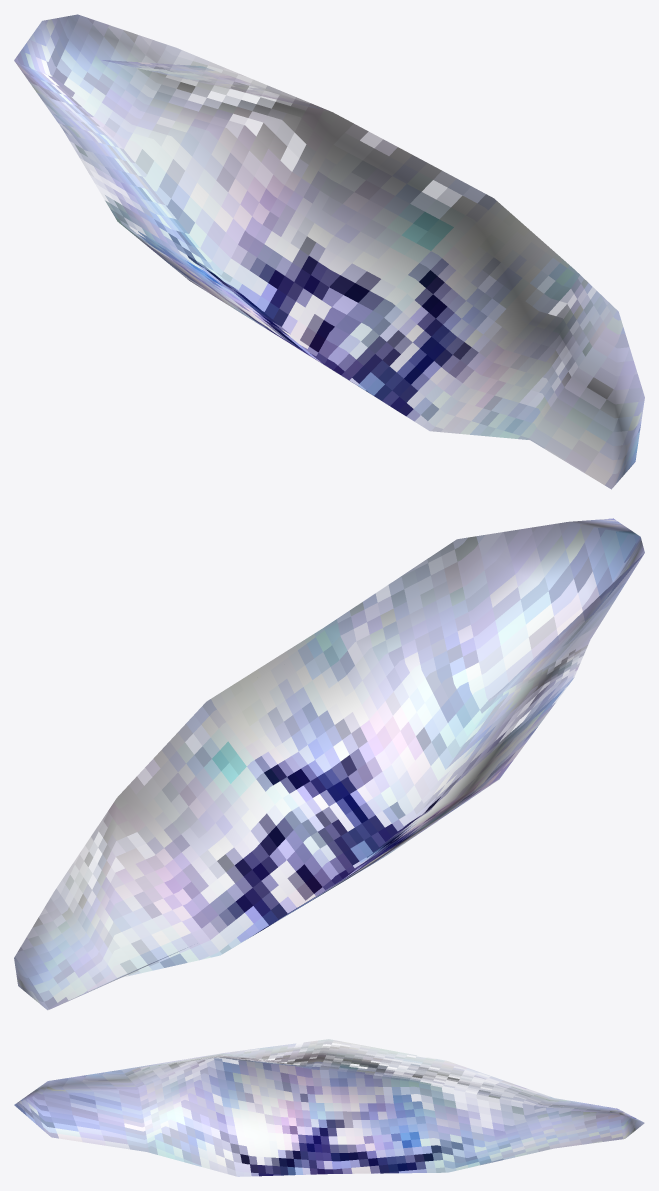
Rendered from condolstone.glb.
The picture shows the model from 3 angles, top to bottom: view 1: azimuth 30°, elevation 25°; view 2: azimuth 150°, elevation 25°; view 3: azimuth 270°, elevation 25°; orthographic projection. The views are drawn at different scales.
Visible parts, largest first — view 1: model_condolstone; view 2: model_condolstone; view 3: model_condolstone.
Boxes of the visible parts, bbox=[...] form: model_condolstone: bbox=[14, 14, 644, 489]; model_condolstone: bbox=[14, 518, 644, 1010]; model_condolstone: bbox=[14, 1039, 644, 1176].
Bounding box in the file's own units: 0.1039 × 0.0851 × 0.3668.
Materials: 1 (1 with a texture image).
